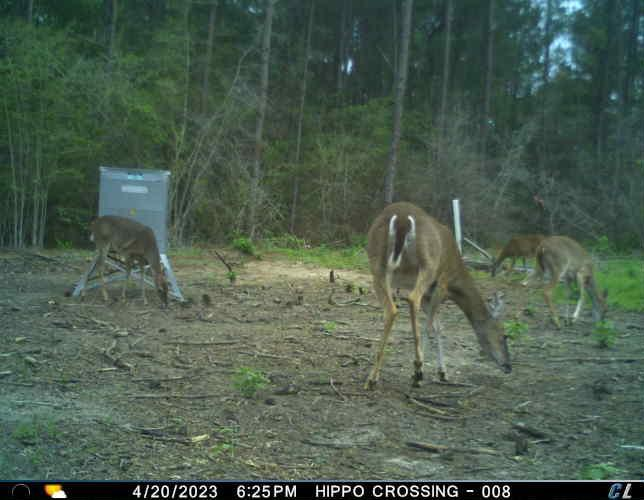Deer: (365, 199, 516, 392), (87, 211, 174, 309), (526, 234, 616, 327), (486, 231, 552, 279)
